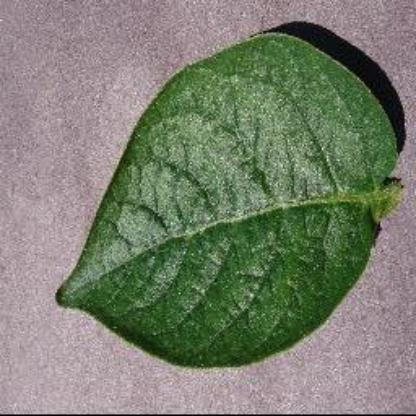Healthy-plant: (60, 22, 410, 380)
